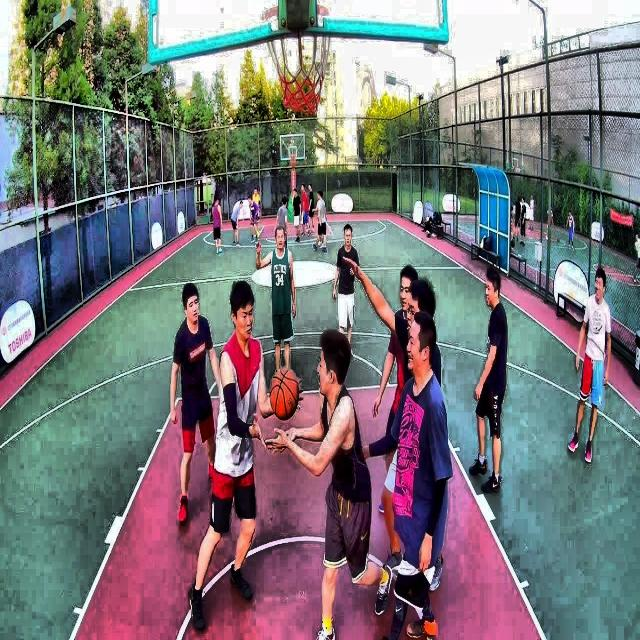board: (270, 367, 299, 421)
